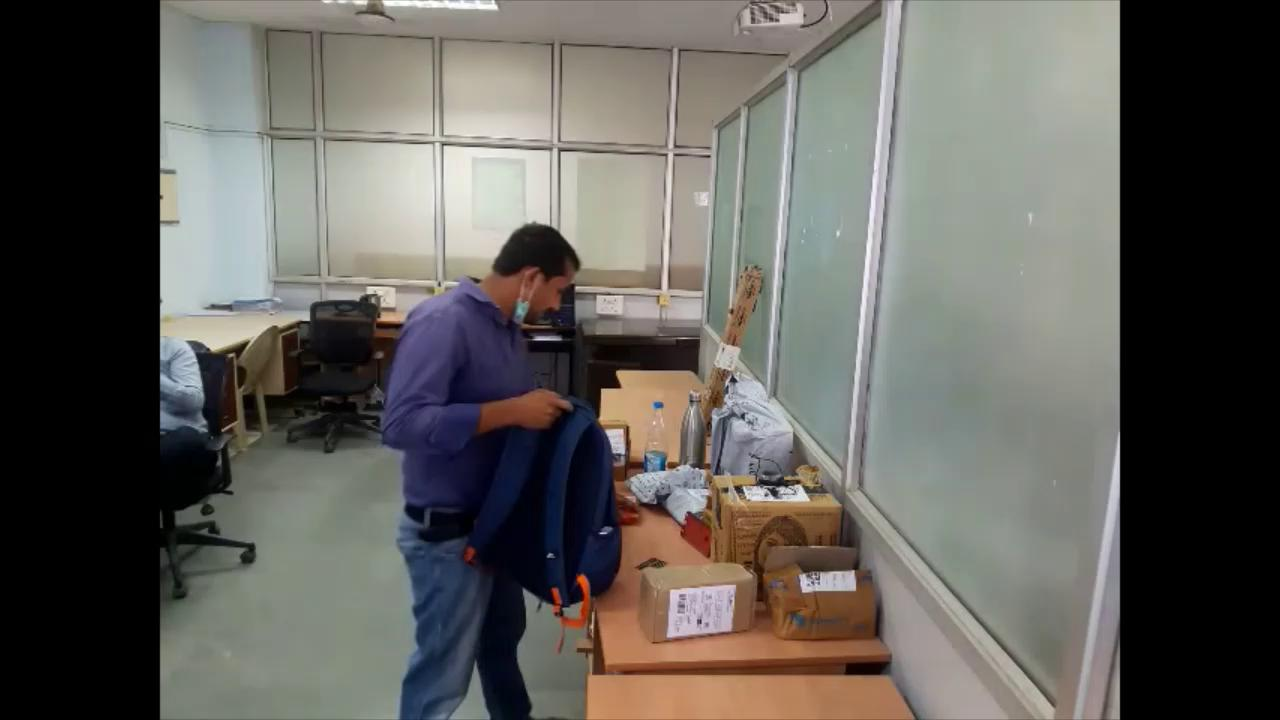shoplifting: (378, 217, 624, 720)
